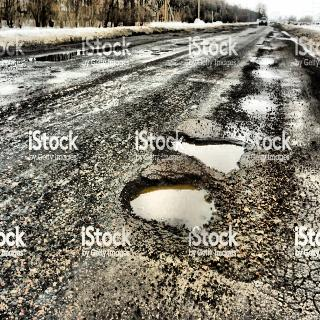alligator-crack: (281, 180, 320, 318)
pothole: (113, 180, 223, 264), (165, 137, 250, 172), (233, 84, 284, 135), (38, 51, 84, 70), (279, 45, 310, 69), (253, 41, 289, 53), (248, 67, 281, 79), (254, 56, 275, 68), (266, 32, 290, 42)
